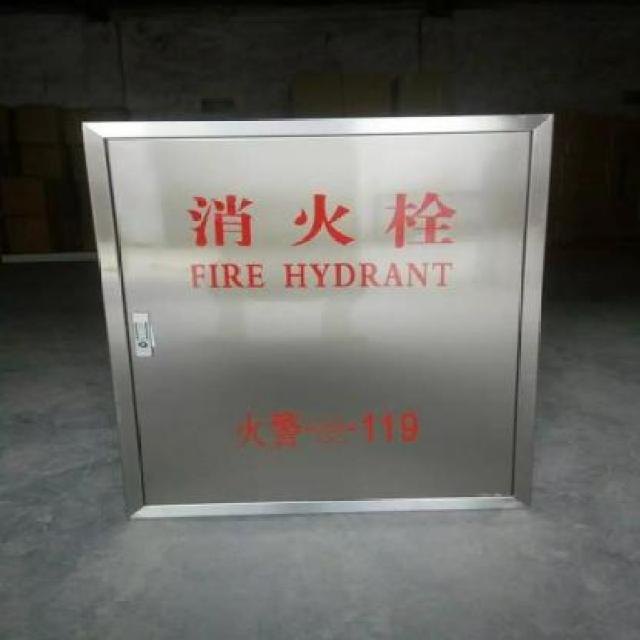firehydrant: (72, 78, 561, 524)
